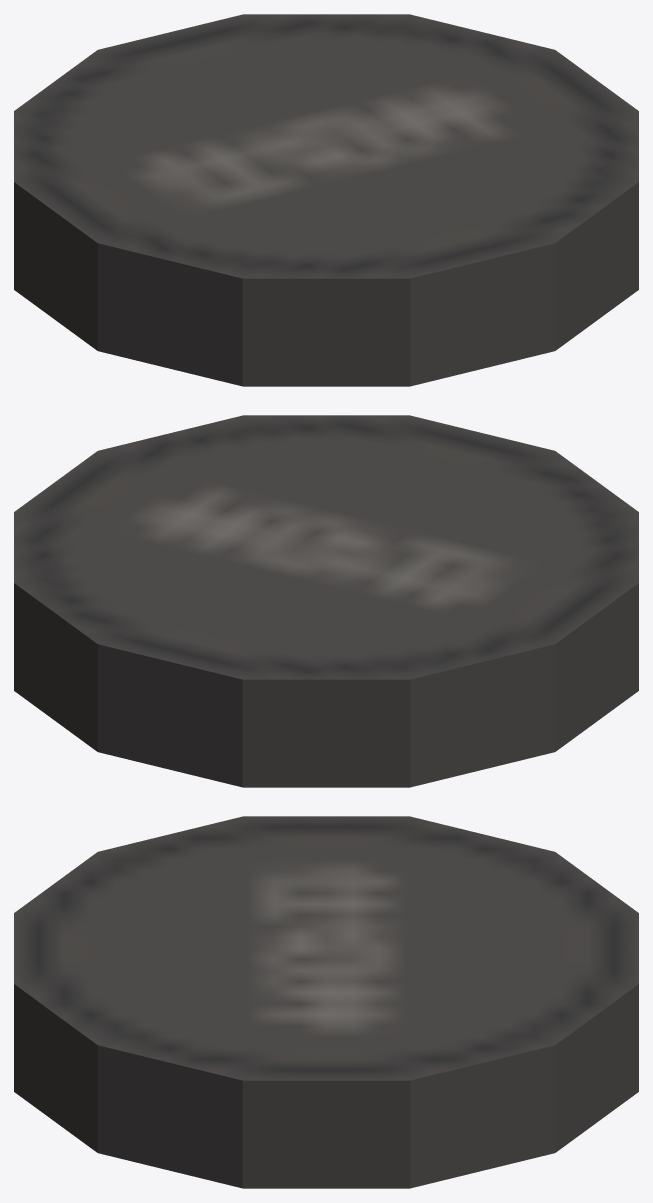
File: SM_Ground_Valve250_01.fbx
3 renders of one model, top to bottom at view 1: azimuth 30°, elevation 25°; view 2: azimuth 150°, elevation 25°; view 3: azimuth 270°, elevation 25°, orthographic.
Visible parts, largest first — view 1: SM_Ground_Valve250_01; view 2: SM_Ground_Valve250_01; view 3: SM_Ground_Valve250_01.
Part boxes in pixels (x1,y1,x2,y2): SM_Ground_Valve250_01: (14,14,638,386); SM_Ground_Valve250_01: (14,415,638,787); SM_Ground_Valve250_01: (14,816,638,1188).
Bounding box in the file's own units: 0.2415 × 0.046 × 0.2415.
1 material, 1 textured.
